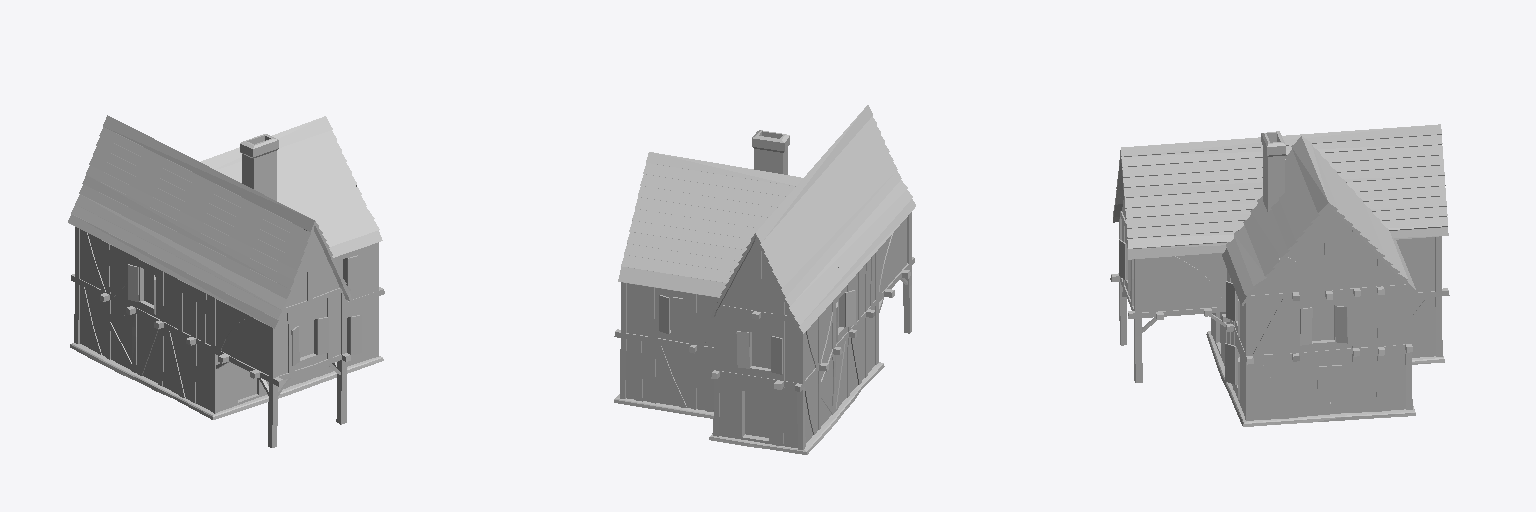
Rendered from Medieval House.obj.
3 renders of one model, left to right at view 1: azimuth 30°, elevation 25°; view 2: azimuth 150°, elevation 25°; view 3: azimuth 270°, elevation 25°, orthographic.
Parts seen in each view (by area): view 1: Medieval_House3:Mesh; view 2: Medieval_House3:Mesh; view 3: Medieval_House3:Mesh.
Part boxes in pixels (left/top/right/bottom): Medieval_House3:Mesh: left=68, top=115, right=384, bottom=447; Medieval_House3:Mesh: left=614, top=105, right=915, bottom=454; Medieval_House3:Mesh: left=1110, top=124, right=1449, bottom=426.
Size of the model in its own units: 300 by 302 by 392.